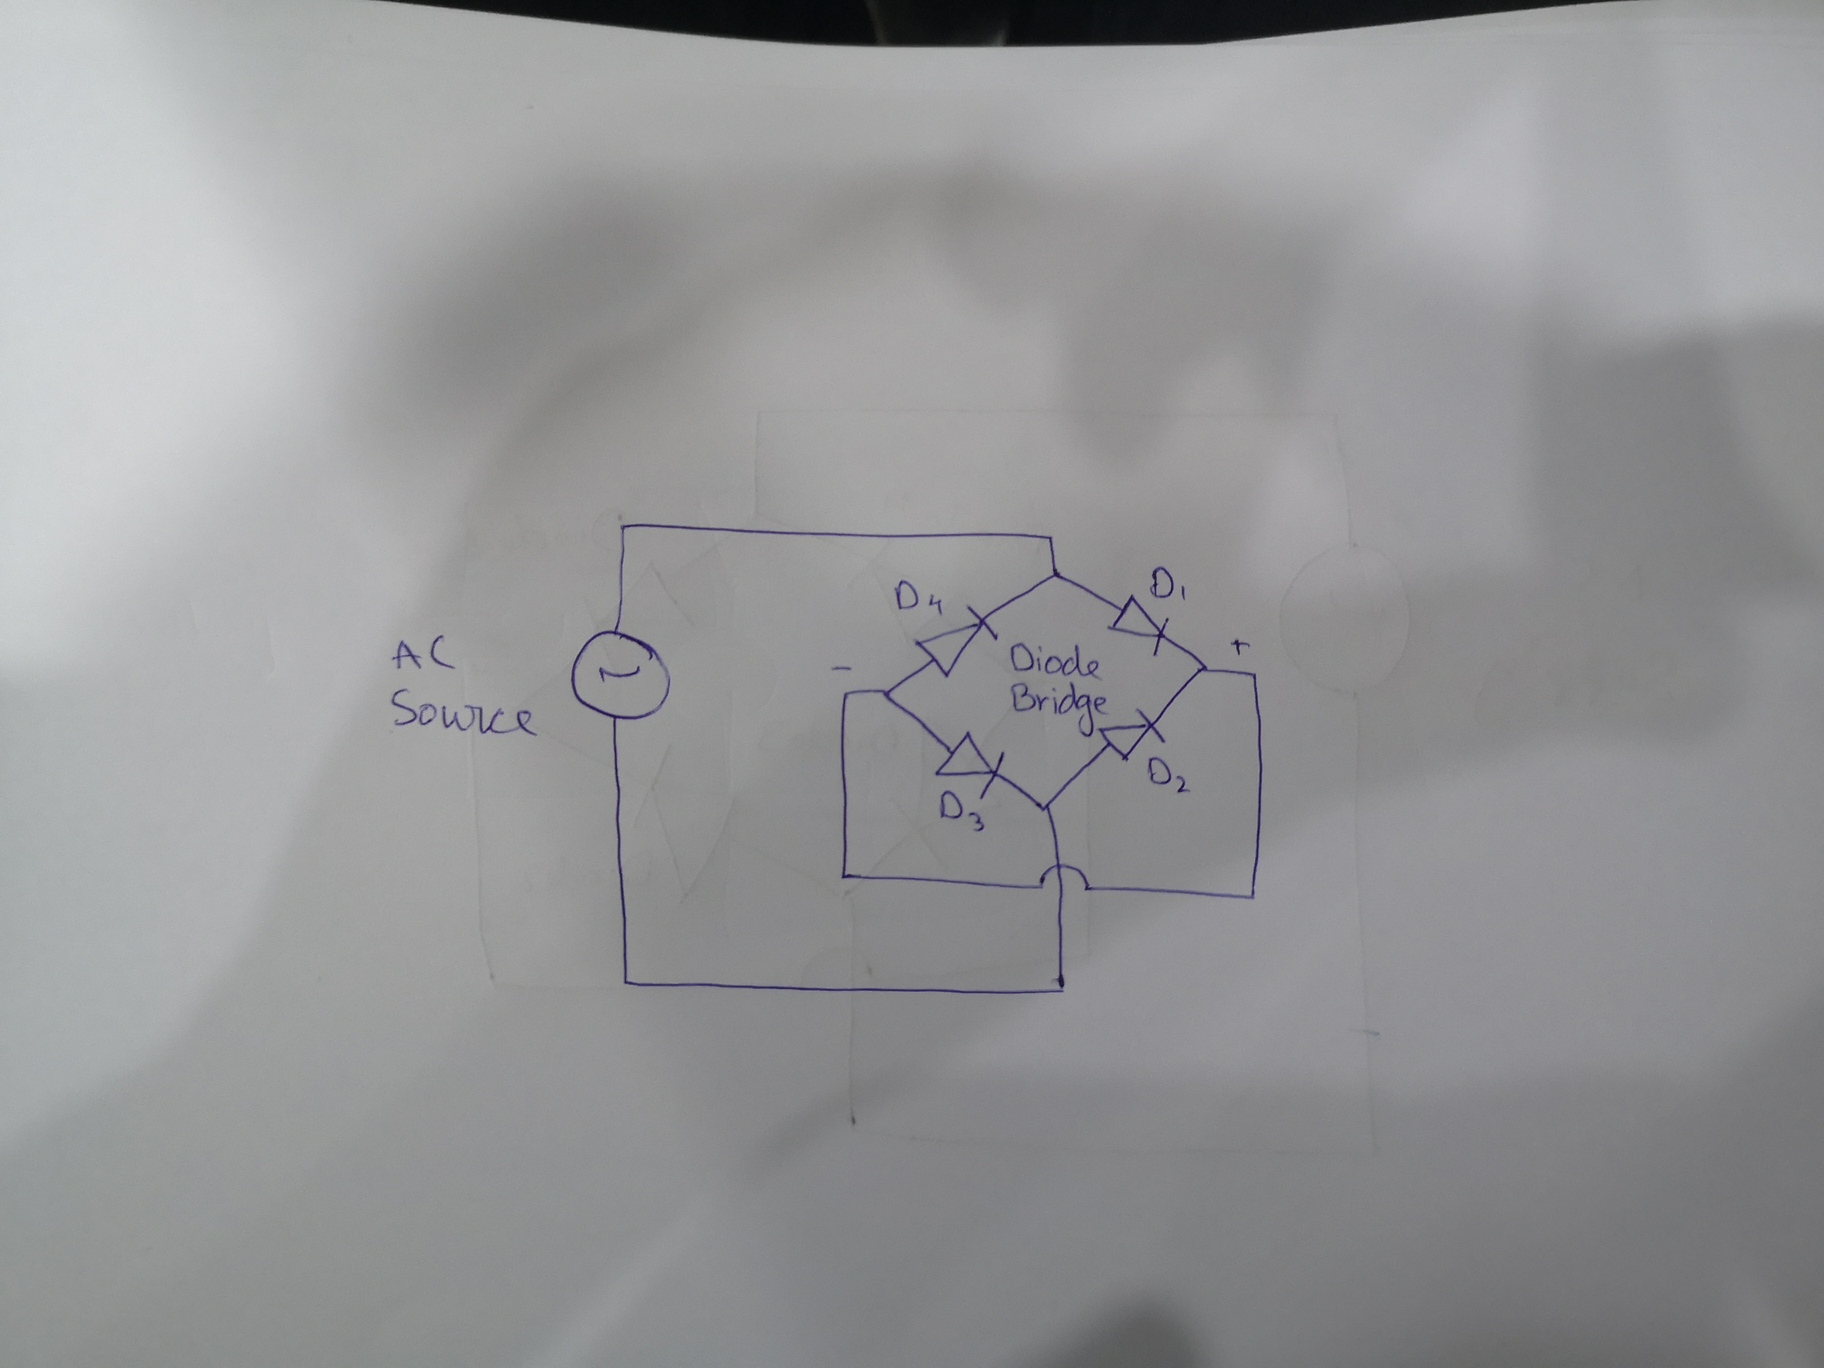crossover: (1033, 859, 1092, 900)
diode: (912, 602, 1000, 680), (934, 731, 1013, 808), (1104, 596, 1173, 661), (1096, 706, 1168, 766)
junction: (1031, 795, 1058, 818), (610, 516, 633, 539), (616, 970, 639, 992), (876, 681, 896, 706), (1193, 660, 1216, 680), (1050, 976, 1071, 996), (1046, 563, 1066, 585), (1040, 529, 1060, 549), (836, 865, 855, 885), (837, 685, 855, 701), (1242, 888, 1258, 905), (1245, 665, 1262, 680)
text: (386, 683, 544, 739), (1005, 680, 1113, 740), (1005, 639, 1104, 683), (386, 634, 455, 678), (936, 787, 987, 836), (889, 578, 948, 616), (1143, 754, 1193, 798), (1146, 562, 1191, 602)
voltage.dc_ac: (566, 625, 675, 727)
